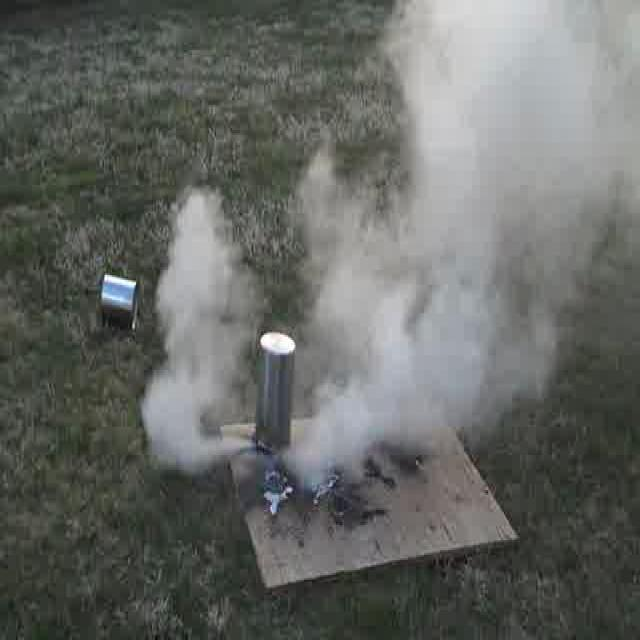Smoke: (300, 4, 640, 473), (152, 195, 246, 470)
